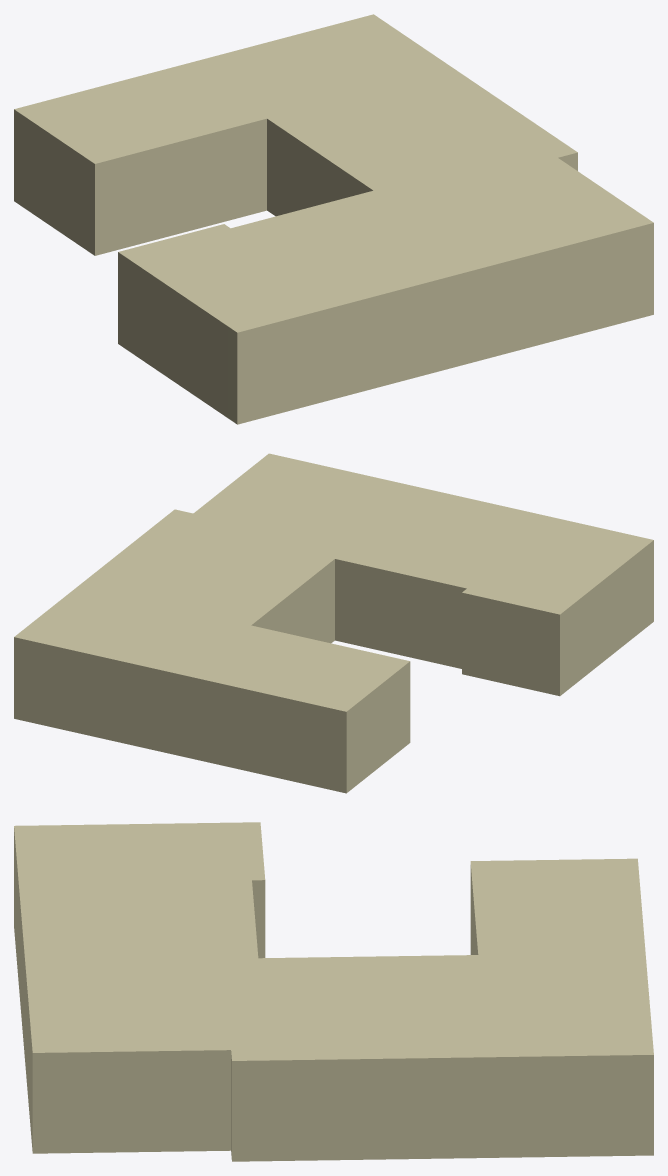
File: SM_WhiteModel_2.FBX
3 renders of one model, top to bottom at view 1: azimuth 30°, elevation 25°; view 2: azimuth 150°, elevation 25°; view 3: azimuth 270°, elevation 25°, orthographic. The views are drawn at different scales.
Parts seen in each view (by area): view 1: SM_WhiteModel_2; view 2: SM_WhiteModel_2; view 3: SM_WhiteModel_2.
Boxes of the visible parts, <box> form: SM_WhiteModel_2: <box>14,14,653,424</box>; SM_WhiteModel_2: <box>14,453,653,793</box>; SM_WhiteModel_2: <box>14,822,653,1161</box>.
Size of the model in its own units: 4577 by 5184 by 900.
